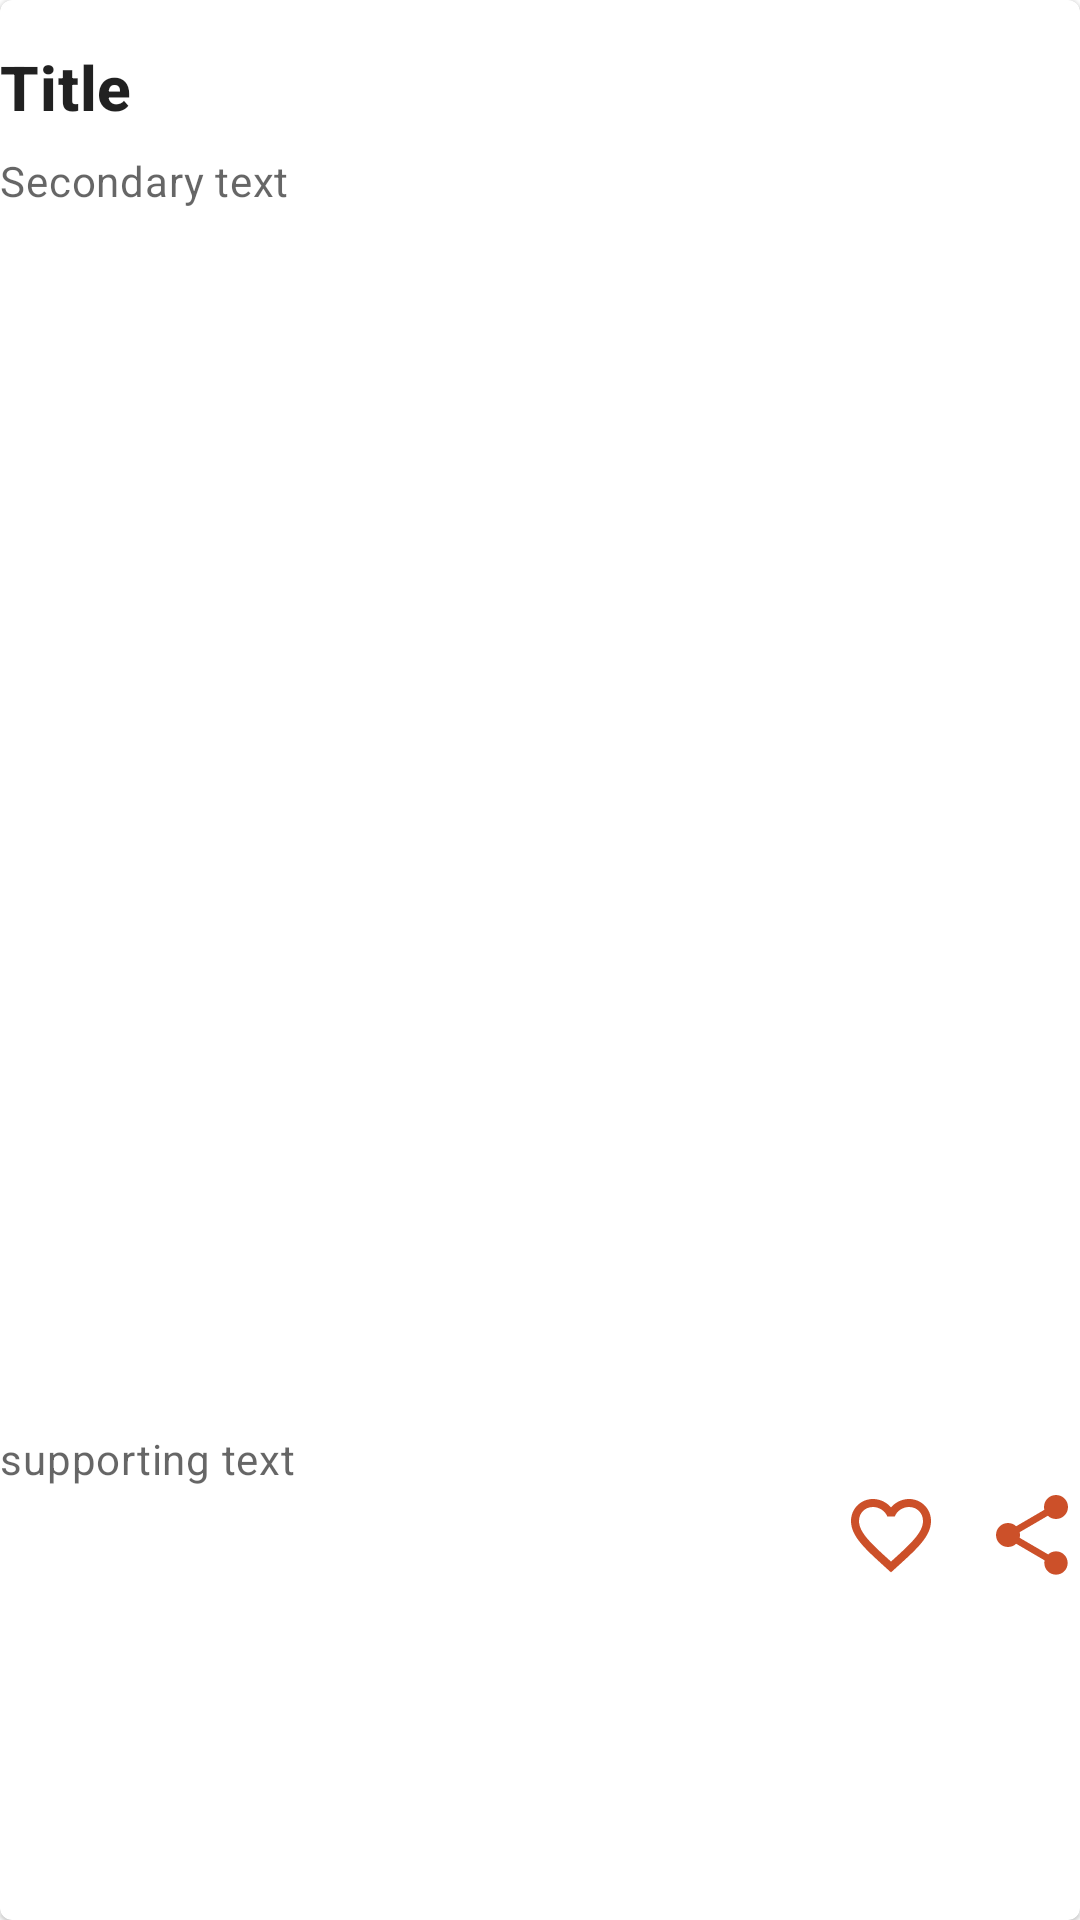

Icon click points for this 1080px x 1920px phone screenshot, format point (x, y):
favorite: point (891, 1535)
share: point (1032, 1535)
